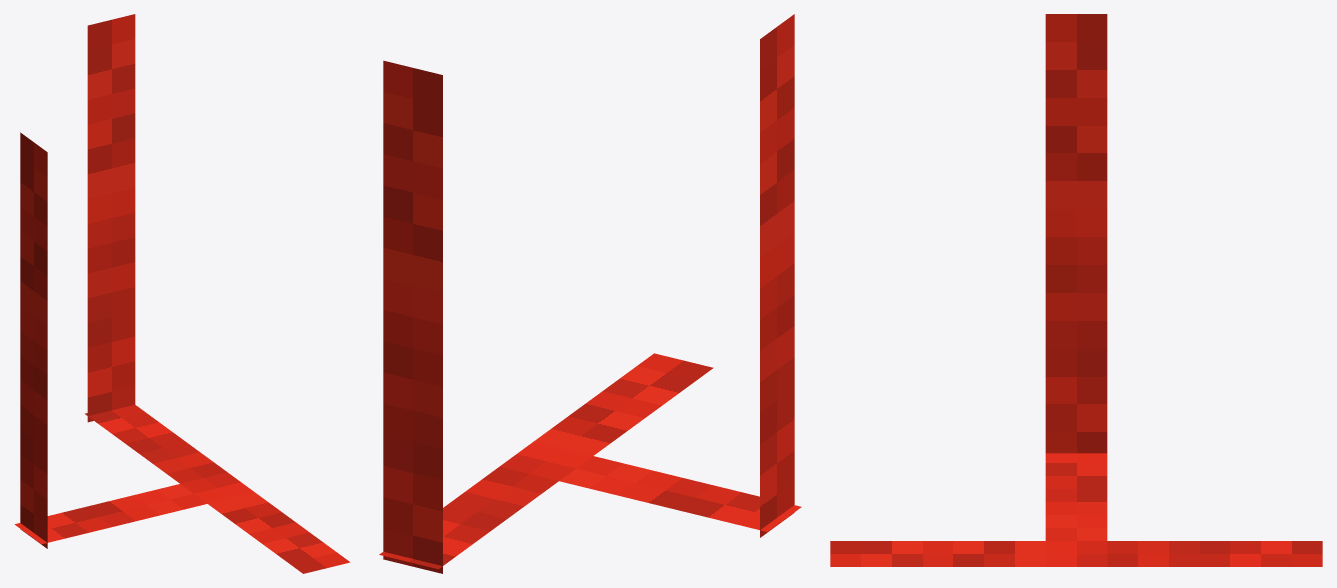
Rendered from dust_on_0212.gltf.
3 renders of one model, left to right at view 1: azimuth 30°, elevation 25°; view 2: azimuth 150°, elevation 25°; view 3: azimuth 270°, elevation 25°, orthographic. The views are drawn at different scales.
Visible parts, largest first — view 1: dust_on_0212; view 2: dust_on_0212; view 3: dust_on_0212.
Part boxes in pixels (left/top/right/bottom): dust_on_0212: left=14, top=14, right=350, bottom=573; dust_on_0212: left=379, top=14, right=801, bottom=573; dust_on_0212: left=830, top=14, right=1322, bottom=566.
Bounding box in the file's own units: 0.5625 × 1 × 1.
1 material, 1 textured.
